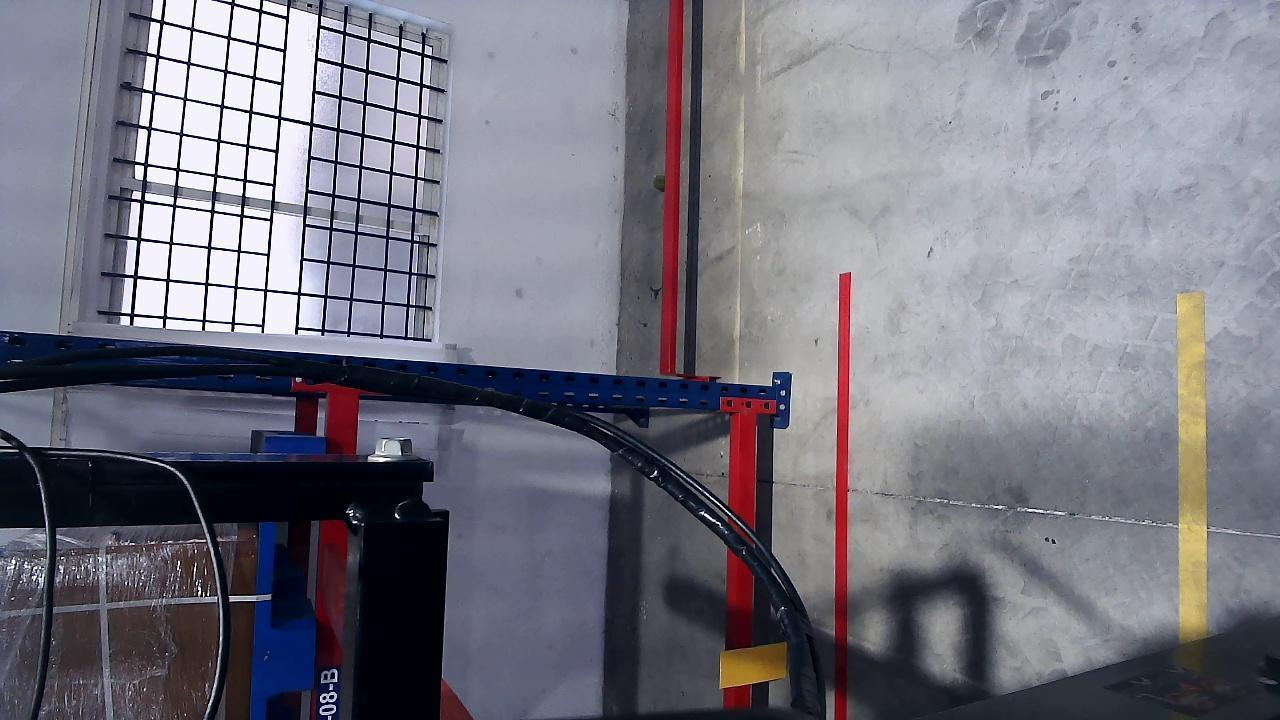red_line: (833, 273, 851, 720)
yellow_line: (1175, 291, 1208, 640)
